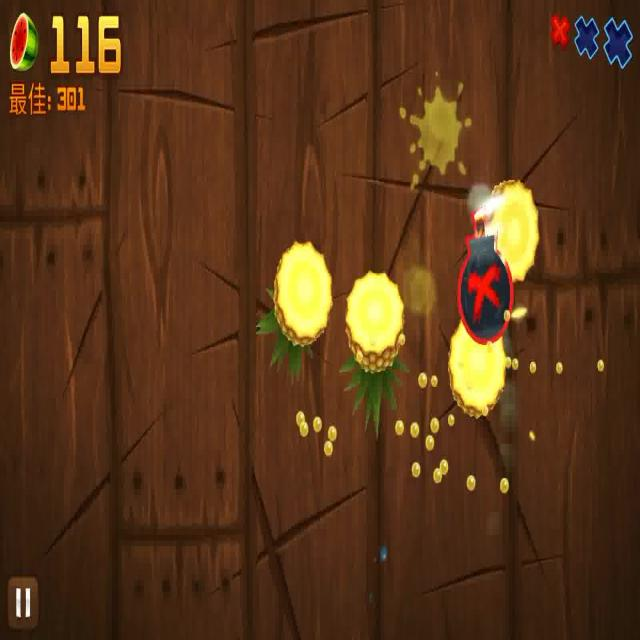bomb: (454, 197, 518, 346)
fruit: (346, 258, 406, 428), (261, 242, 335, 374), (445, 316, 506, 424), (484, 177, 539, 280)
